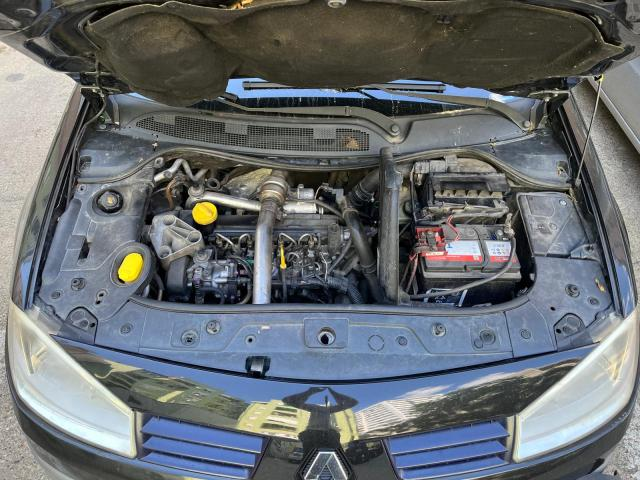accumulator: (412, 222, 521, 306)
antifreeze_tank: (98, 191, 121, 212)
fuse_box: (516, 192, 588, 257)
high_pressure_pump: (188, 260, 238, 303)
